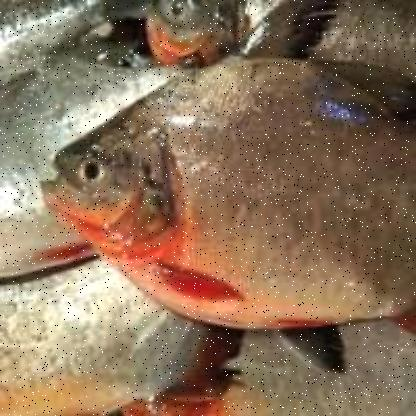ikan-pacu: (48, 55, 414, 326)
